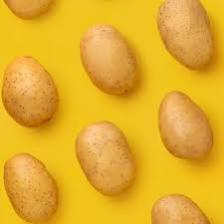Potato: (69, 118, 140, 198), (154, 83, 220, 166), (75, 19, 140, 100), (150, 0, 221, 74), (0, 49, 62, 132), (2, 148, 62, 224), (146, 189, 218, 224)
